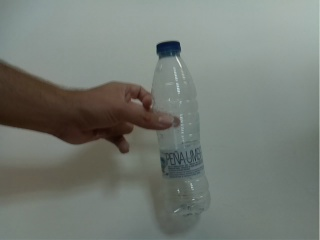botella plastico: (144, 39, 215, 222)
